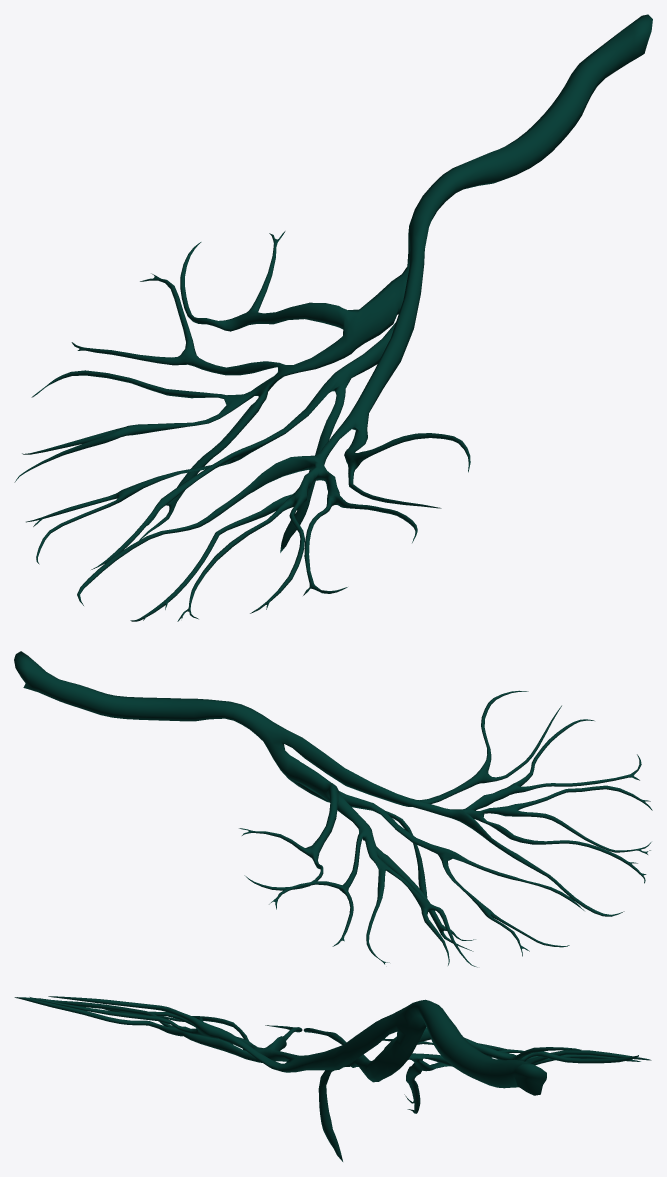
The model's file is Right_Renal_artery_inner.fbx.
3 renders of one model, top to bottom at view 1: azimuth 30°, elevation 25°; view 2: azimuth 150°, elevation 25°; view 3: azimuth 270°, elevation 25°, orthographic. The views are drawn at different scales.
Parts seen in each view (by area): view 1: Right_Renal_artery_inner; view 2: Right_Renal_artery_inner; view 3: Right_Renal_artery_inner.
Boxes of the visible parts, x1=… form: Right_Renal_artery_inner: x1=14, y1=14, x2=652, y2=621; Right_Renal_artery_inner: x1=14, y1=651, x2=652, y2=967; Right_Renal_artery_inner: x1=14, y1=996, x2=651, y2=1161.
Bounding box in the file's own units: 103 × 47 × 90.36.
